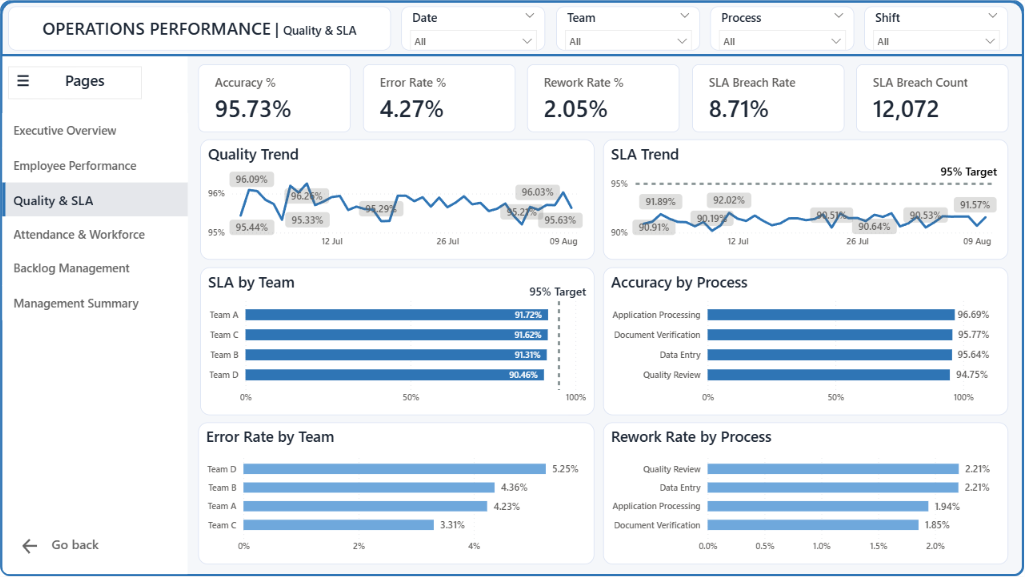

This screenshot's page, from the dashboard's own definition file:
{"tool":"powerbi","page":{"name":"Quality & SLA","canvas":[1280,720],"ordinal":2},"visuals":[{"type":"shape","box":[0,0,1280,720],"z":0},{"type":"shape","box":[0,0,1280,70],"z":1000},{"type":"textbox","box":[10,7.5,478.8,55],"z":2000},{"type":"cardVisual","fields":{"Data":["Measure.SLA Breaches"]},"box":[1070,80,190,85],"z":3000},{"type":"shape","box":[2,70,232,647.5],"z":4000},{"type":"cardVisual","fields":{"Data":["Measure.SLA Breach %"]},"box":[864.4,80,190,85],"z":5000},{"type":"cardVisual","fields":{"Data":["Measure.Accuracy %"]},"box":[247.5,80,190,85],"z":6000},{"type":"cardVisual","fields":{"Data":["Measure.Error Rate %"]},"box":[453.1,80,190,85],"z":7000},{"type":"slicer","fields":{"Values":["DateTable.Date"]},"box":[501.6,7.5,180,55],"z":8000},{"type":"slicer","fields":{"Values":["dim_team.Team"]},"box":[694.4,7.5,180,55],"z":9000},{"type":"slicer","fields":{"Values":["dim_process.Process"]},"box":[887.2,7.5,180,55],"z":10000},{"type":"slicer","fields":{"Values":["dim_shift.Shift"]},"box":[1080,7.5,180,55],"z":11000},{"type":"pageNavigator","box":[2,141.2,232.5,261.2],"z":12000},{"type":"actionButton","box":[24,669,37.5,27.5],"z":13000},{"type":"textbox","box":[51.2,663.8,85,41.2],"z":14000},{"type":"textbox","box":[10,82,167.5,41.2],"z":15000},{"type":"textbox","box":[422.5,471.2,91.2,30],"z":16000},{"type":"cardVisual","fields":{"Data":["Measure.Rework Rate %"]},"box":[658.8,80,190,85],"z":17000},{"type":"lineChart","title":"Quality Trend","fields":{"Y":["Measure.Accuracy %"],"Category":["DateTable.Date"]},"box":[250,173.8,492.5,150],"z":18000},{"type":"lineChart","title":"SLA Trend","fields":{"Y":["Measure.SLA %"],"Category":["DateTable.Date"]},"box":[753.8,173.8,506.2,150],"z":19000},{"type":"textbox","box":[1165,198.8,91.2,30],"z":20000},{"type":"clusteredBarChart","title":"SLA by Team","fields":{"Category":["dim_team.Team"],"Y":["Measure.SLA %"]},"box":[250,333.8,492.5,185],"z":21000},{"type":"textbox","box":[651.2,348.8,91.2,30],"z":22000},{"type":"clusteredBarChart","title":"Accuracy by Process","fields":{"Category":["dim_process.Process"],"Y":["Measure.Accuracy %"]},"box":[753.8,333.8,506.2,185],"z":23000},{"type":"clusteredBarChart","title":"Error Rate by Team","fields":{"Category":["dim_team.Team"],"Y":["Measure.Error Rate %"]},"box":[247.5,527.5,495,177.5],"z":25000},{"type":"clusteredBarChart","title":"Rework Rate by Process","fields":{"Category":["dim_process.Process"],"Y":["Measure.Rework Rate %"]},"box":[753.8,527.5,506.2,177.5],"z":26000}]}

Visuals, with their boxes in screenshot pixels (x1, y1, x2, y2), scaled from the page's 1280x720 canvas onto the 1025x577 screenshot:
shape: detection(0, 0, 1024, 576)
shape: detection(0, 0, 1024, 56)
textbox: detection(8, 6, 391, 50)
cardVisual - Measure.SLA Breaches: detection(857, 64, 1009, 132)
shape: detection(2, 56, 187, 575)
cardVisual - Measure.SLA Breach %: detection(692, 64, 844, 132)
cardVisual - Measure.Accuracy %: detection(198, 64, 350, 132)
cardVisual - Measure.Error Rate %: detection(363, 64, 515, 132)
slicer - DateTable.Date: detection(402, 6, 546, 50)
slicer - dim_team.Team: detection(556, 6, 700, 50)
slicer - dim_process.Process: detection(710, 6, 855, 50)
slicer - dim_shift.Shift: detection(865, 6, 1009, 50)
pageNavigator: detection(2, 113, 188, 322)
actionButton: detection(19, 536, 49, 558)
textbox: detection(41, 532, 109, 565)
textbox: detection(8, 66, 142, 99)
textbox: detection(338, 378, 411, 402)
cardVisual - Measure.Rework Rate %: detection(528, 64, 680, 132)
"Quality Trend" lineChart: detection(200, 139, 595, 259)
"SLA Trend" lineChart: detection(604, 139, 1009, 259)
textbox: detection(933, 159, 1006, 183)
"SLA by Team" clusteredBarChart: detection(200, 268, 595, 416)
textbox: detection(521, 280, 595, 304)
"Accuracy by Process" clusteredBarChart: detection(604, 268, 1009, 416)
"Error Rate by Team" clusteredBarChart: detection(198, 423, 595, 565)
"Rework Rate by Process" clusteredBarChart: detection(604, 423, 1009, 565)
